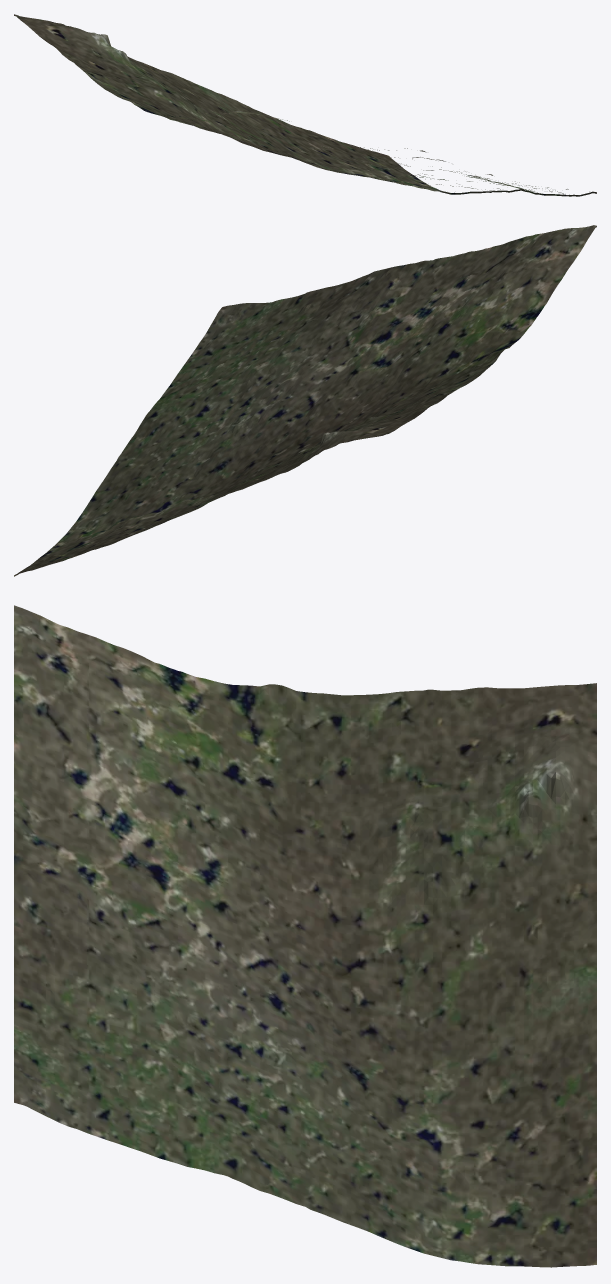
3 renders of one model, top to bottom at view 1: azimuth 30°, elevation 25°; view 2: azimuth 150°, elevation 25°; view 3: azimuth 270°, elevation 25°, orthographic. The views are drawn at different scales.
Size of the model in its own units: 250 by 186 by 241.
Materials: 1 (1 with a texture image).
